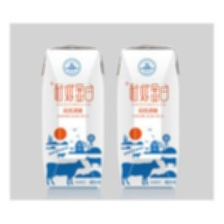carton: (114, 40, 183, 193), (38, 41, 106, 190)
